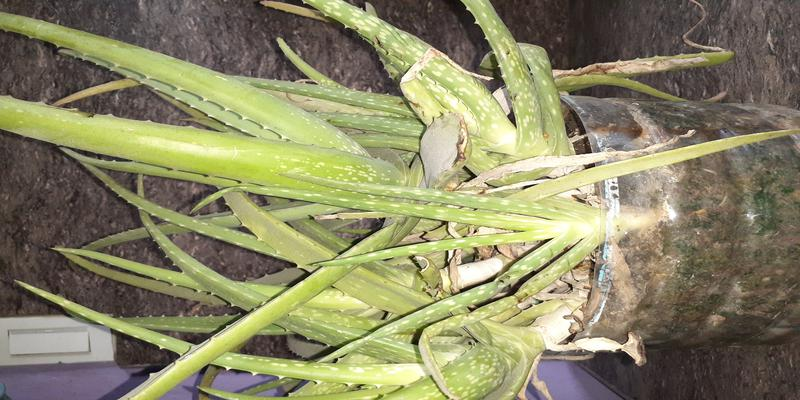Aloevera: (59, 22, 590, 385)
